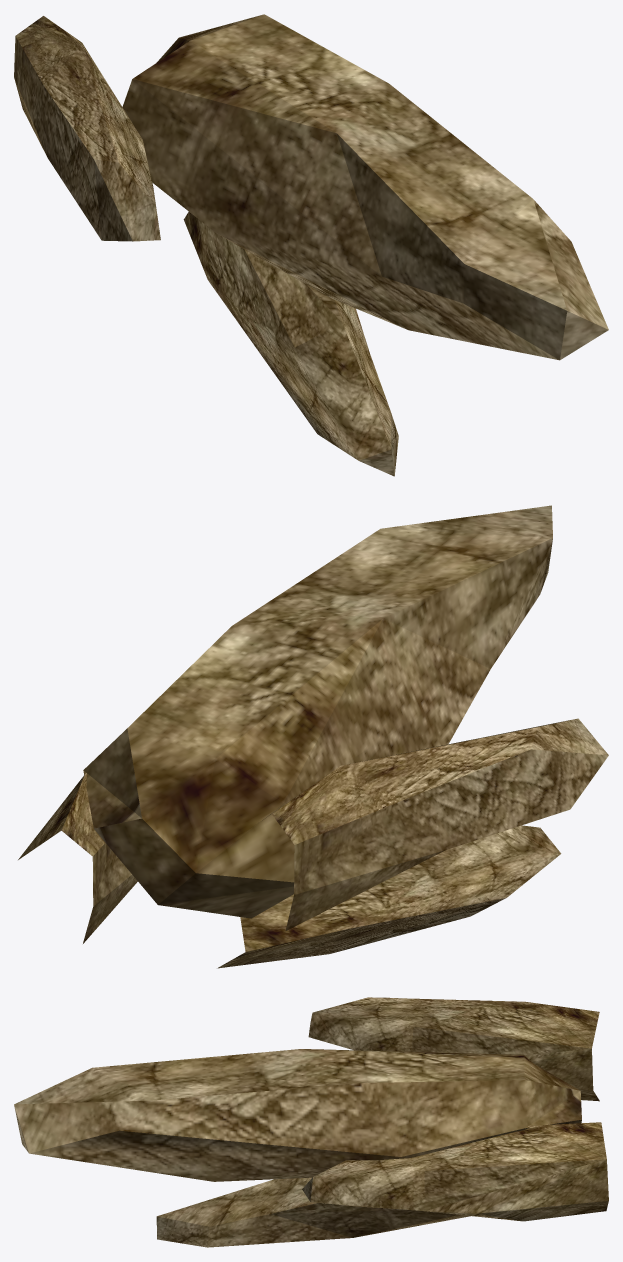
3 renders of one model, top to bottom at view 1: azimuth 30°, elevation 25°; view 2: azimuth 150°, elevation 25°; view 3: azimuth 270°, elevation 25°, orthographic. The views are drawn at different scales.
Parts seen in each view (by area): view 1: model_Object53; view 2: model_Object53; view 3: model_Object53.
Boxes of the visible parts, box(x1,y1,x2,y2) form: model_Object53: box(14, 14, 608, 476); model_Object53: box(18, 505, 608, 968); model_Object53: box(14, 997, 608, 1247).
Bounding box in the file's own units: 3.96 × 2.91 × 7.47.
1 material, 1 textured.
